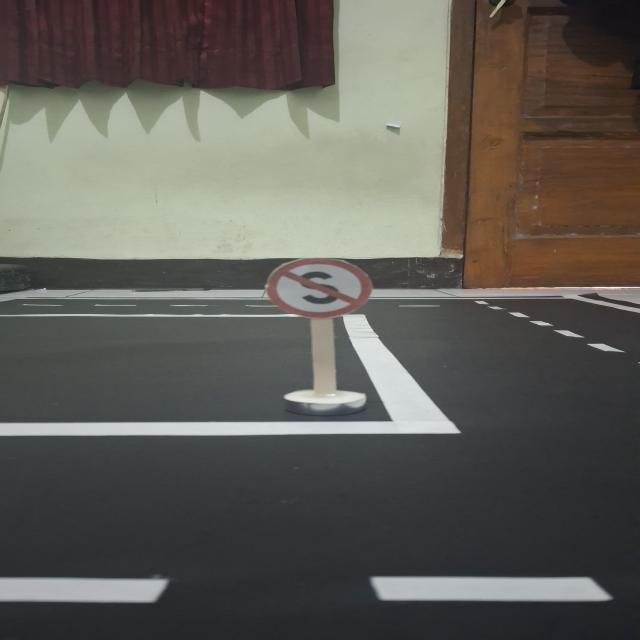Rambu Berhenti: (266, 258, 372, 318)
